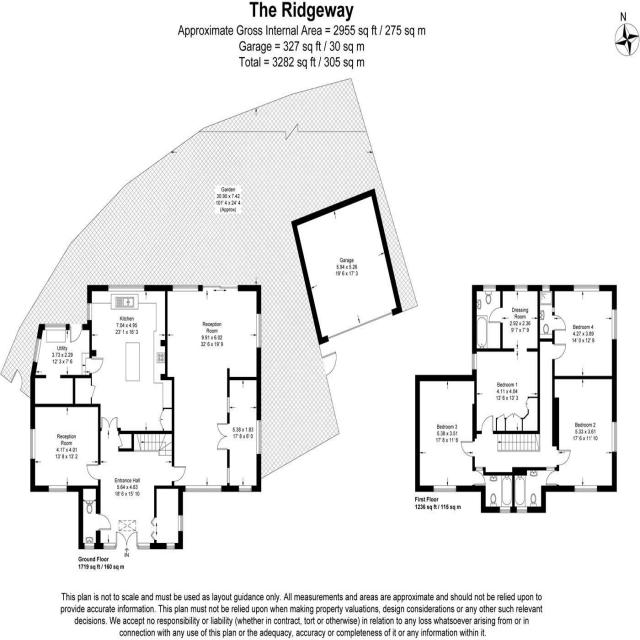DOOR: (96, 513, 112, 532), (460, 440, 476, 458), (556, 449, 571, 467), (552, 314, 567, 332), (86, 463, 101, 481), (69, 324, 83, 343), (552, 343, 567, 360), (488, 307, 503, 324), (89, 357, 104, 374), (481, 415, 494, 434), (172, 465, 186, 482), (472, 469, 486, 486), (546, 470, 559, 486)
ROOM: (165, 285, 261, 492), (73, 285, 174, 434), (545, 376, 617, 492), (415, 375, 486, 492), (30, 403, 101, 492), (552, 285, 617, 379), (472, 348, 540, 434)
WINDOW: (185, 485, 222, 493), (32, 337, 42, 364), (108, 285, 145, 292), (611, 420, 618, 454), (573, 284, 600, 292), (172, 284, 199, 292), (256, 313, 262, 349), (256, 419, 262, 455), (432, 485, 457, 493), (611, 308, 617, 341), (574, 485, 598, 493), (44, 323, 67, 331), (30, 428, 35, 460), (48, 485, 67, 492), (514, 284, 528, 292), (471, 353, 477, 371), (483, 285, 497, 292), (238, 485, 252, 492), (499, 506, 511, 514), (516, 506, 528, 514), (87, 302, 92, 321), (103, 543, 116, 550), (138, 543, 151, 550), (178, 514, 183, 532), (84, 543, 95, 550), (226, 396, 230, 414), (166, 542, 175, 550), (226, 467, 230, 484), (542, 285, 550, 291)
